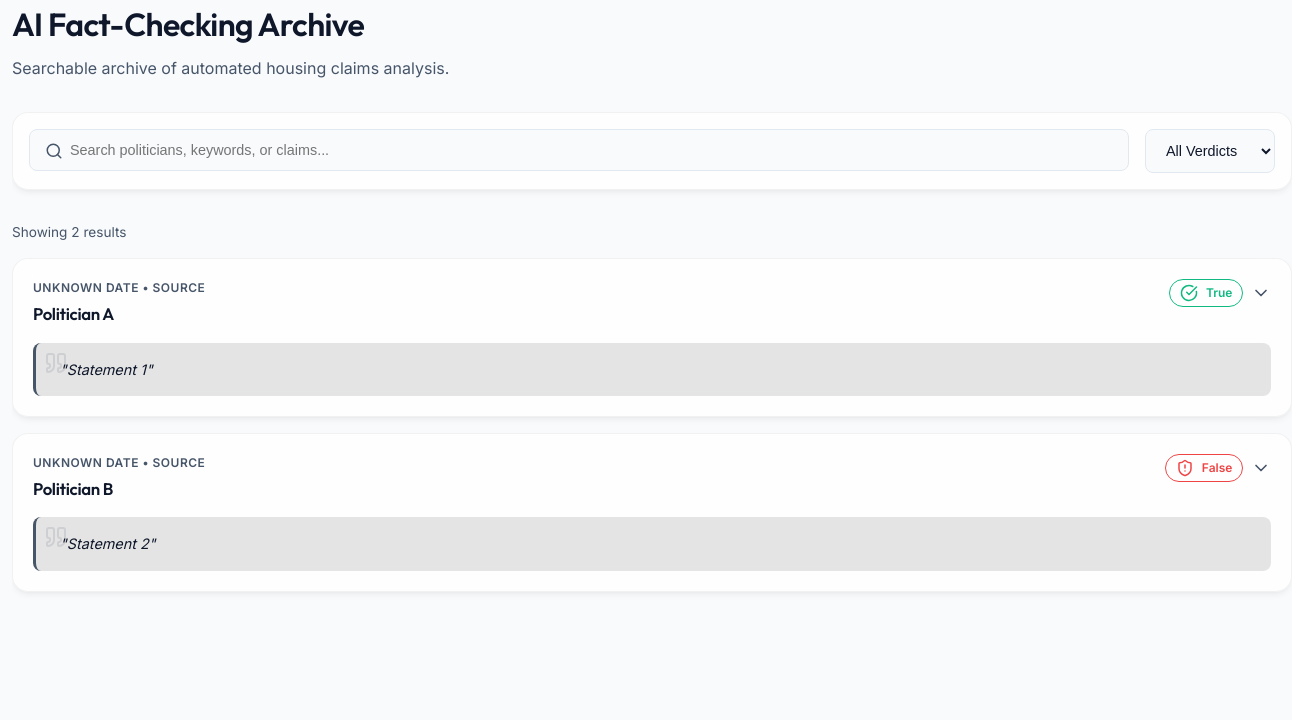
Scenario: FactCheckPage › filters results based on search input
This screenshot has width=1292, height=720.
Expected: the heading "Politician A" is shown, top-left (33, 303), bottom-right (114, 324)
Expected: the heading "Politician B" is shown, top-left (33, 478), bottom-right (113, 499)
# Type in search box
In the field with placeholder "Search politicians, keywords, or claims...": {"x": 579, "y": 150} top-left (29, 129), bottom-right (1129, 171), type "Politician A"
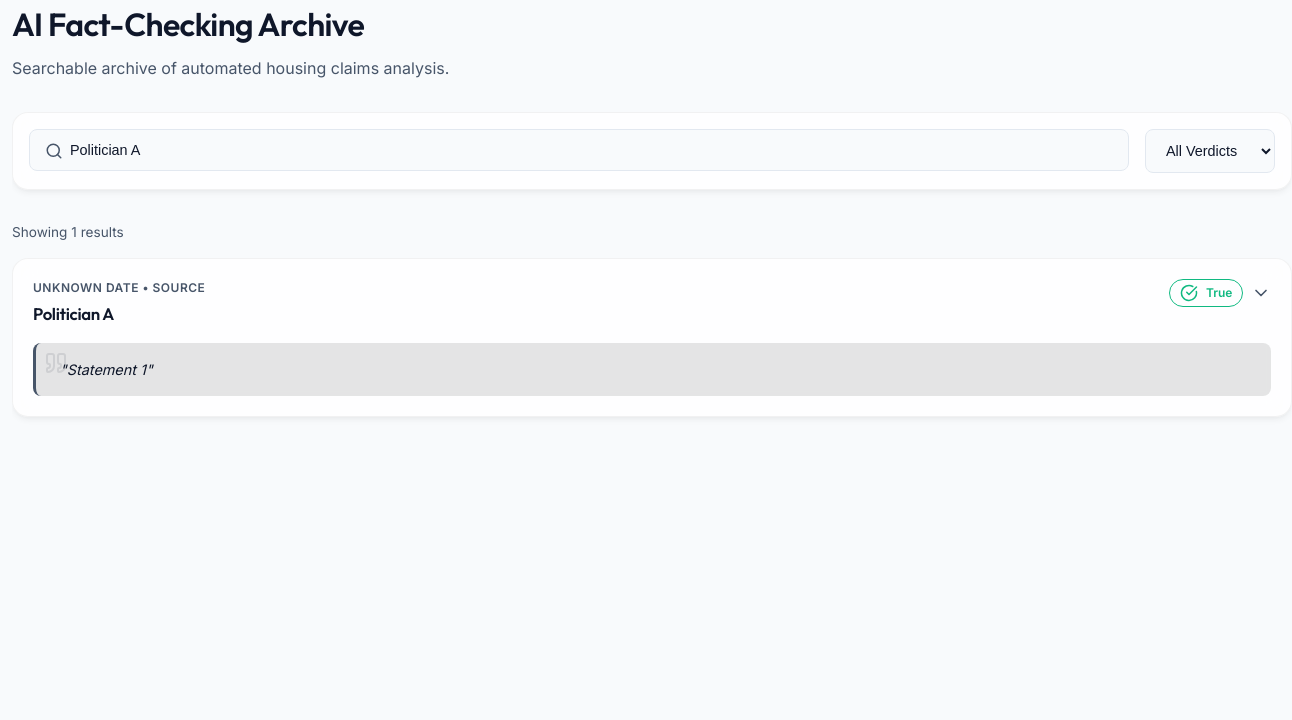
Expected: the heading "Politician A" is shown, top-left (33, 303), bottom-right (114, 324)
Expected: the heading "Politician B" is gone
